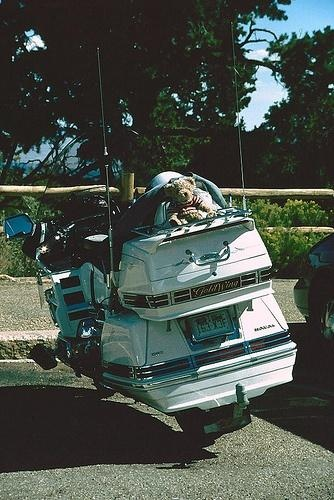car: (294, 232, 334, 351)
motorbike: (3, 174, 299, 448)
